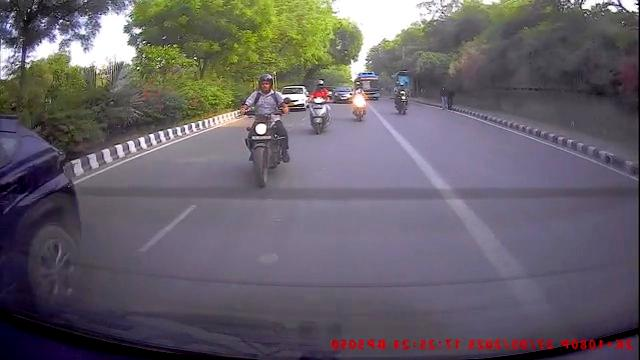motorcycle_with_helmet: (239, 72, 292, 189), (304, 79, 333, 136), (351, 80, 367, 122)
